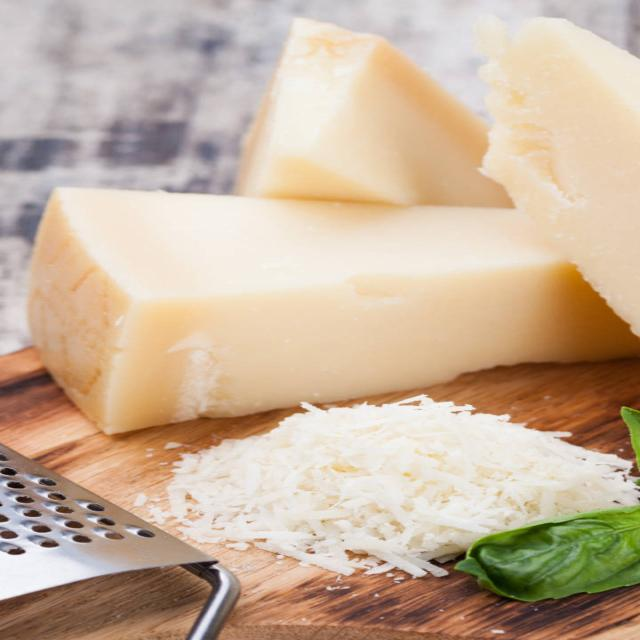Cheese: (18, 22, 640, 375), (163, 410, 495, 537)
